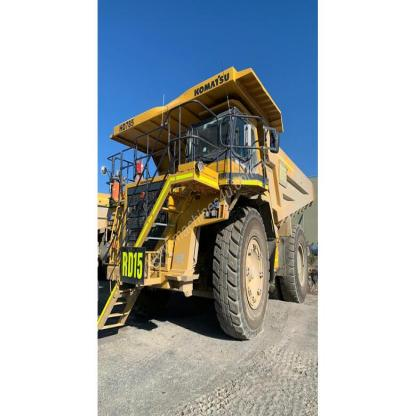dump_truck: (106, 59, 313, 338)
